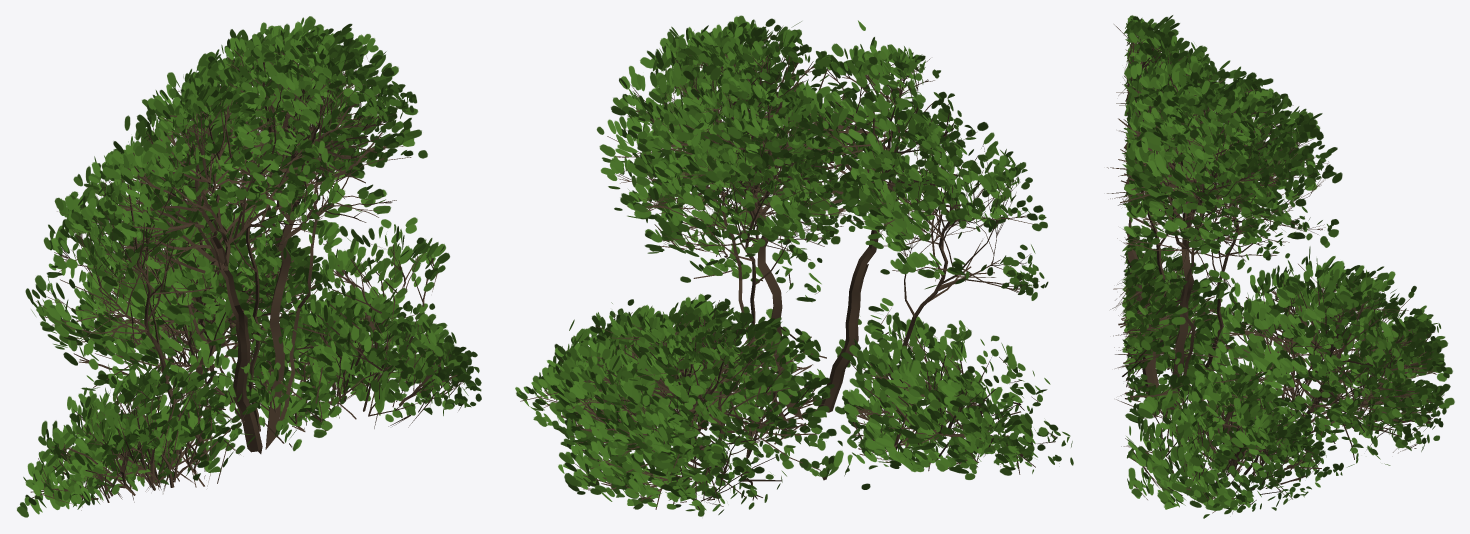
3 renders of one model, left to right at view 1: azimuth 30°, elevation 25°; view 2: azimuth 150°, elevation 25°; view 3: azimuth 270°, elevation 25°, orthographic. The views are drawn at different scales.
Visible parts, largest first — view 1: oak 01.001_trunk_Mat.001_0.237; view 2: oak 01.001_trunk_Mat.001_0.237; view 3: oak 01.001_trunk_Mat.001_0.237.
Boxes of the visible parts, x1,y1,x2,y2 form: oak 01.001_trunk_Mat.001_0.237: (17, 16, 481, 517); oak 01.001_trunk_Mat.001_0.237: (515, 15, 1073, 516); oak 01.001_trunk_Mat.001_0.237: (1107, 15, 1454, 518).
Bounding box in the file's own units: 6.27 × 4.99 × 4.12.
Materials: 2 (1 with a texture image).
